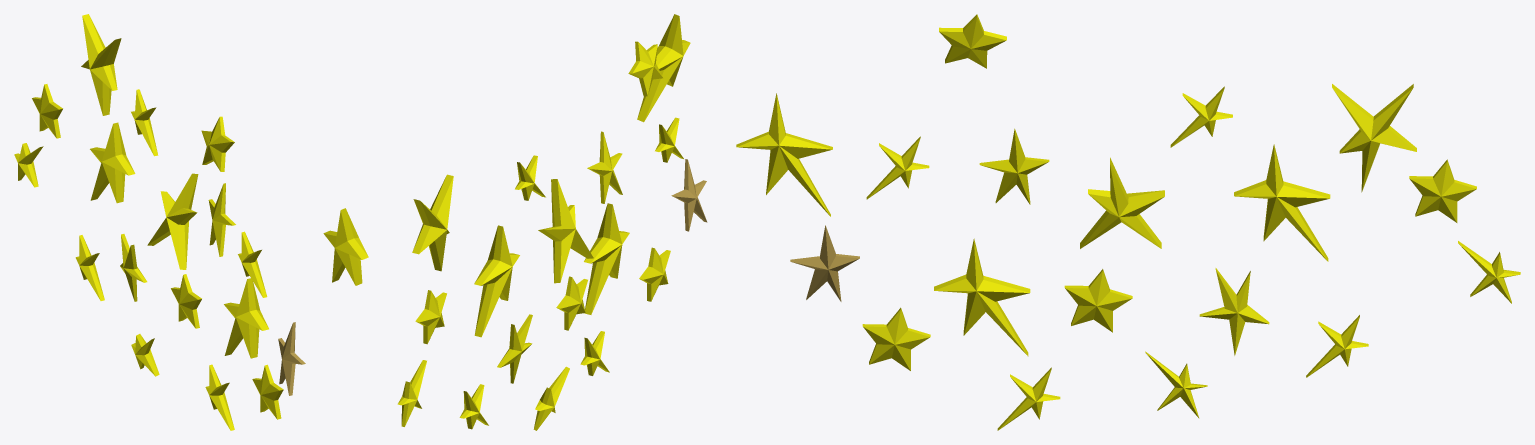
Rendered from zvezde.glb.
The picture shows the model from 3 angles, left to right: view 1: azimuth 30°, elevation 25°; view 2: azimuth 150°, elevation 25°; view 3: azimuth 270°, elevation 25°; orthographic projection. The views are drawn at different scales.
Visible parts, largest first — view 1: Cylinder.002, Cylinder.014, Cylinder.003, Cylinder.006, Cylinder.013, Cylinder.005, Cylinder.008, Cylinder.001, Cylinder.010, Cylinder, Cylinder.011, Cylinder.012 (+6 smaller); view 2: Cylinder.003, Cylinder.006, Cylinder.002, Cylinder.014, Cylinder.013, Cylinder.005, Cylinder.001, Cylinder.008, Cylinder.016, Cylinder.010, Cylinder, Cylinder.011 (+6 smaller); view 3: Cylinder.003, Cylinder.006, Cylinder.013, Cylinder.014, Cylinder.002, Cylinder, Cylinder.010, Cylinder.011, Cylinder.005, Cylinder.016, Cylinder.001, Cylinder.008 (+6 smaller).
Part boxes in pixels (x1=…): Cylinder.002: x1=147, y1=173, x2=198, y2=269; Cylinder.014: x1=81, y1=14, x2=121, y2=115; Cylinder.003: x1=90, y1=122, x2=135, y2=203; Cylinder.006: x1=224, y1=278, x2=268, y2=358; Cylinder.013: x1=323, y1=208, x2=368, y2=285; Cylinder.005: x1=201, y1=116, x2=234, y2=171; Cylinder.008: x1=278, y1=322, x2=305, y2=395; Cylinder.001: x1=208, y1=183, x2=235, y2=256; Cylinder.010: x1=171, y1=274, x2=201, y2=328; Cylinder: x1=32, y1=84, x2=62, y2=138; Cylinder.011: x1=252, y1=364, x2=283, y2=419; Cylinder.012: x1=238, y1=231, x2=267, y2=297; Cylinder.003: x1=474, y1=225, x2=519, y2=337; Cylinder.006: x1=584, y1=203, x2=629, y2=314; Cylinder.002: x1=538, y1=179, x2=593, y2=283; Cylinder.014: x1=412, y1=174, x2=453, y2=271; Cylinder.013: x1=637, y1=14, x2=690, y2=122; Cylinder.005: x1=628, y1=41, x2=662, y2=96; Cylinder.001: x1=587, y1=131, x2=622, y2=203; Cylinder.008: x1=671, y1=159, x2=707, y2=231; Cylinder.016: x1=497, y1=314, x2=532, y2=383; Cylinder.010: x1=556, y1=276, x2=587, y2=330; Cylinder: x1=415, y1=290, x2=446, y2=344; Cylinder.011: x1=639, y1=247, x2=670, y2=301; Cylinder.003: x1=1234, y1=144, x2=1330, y2=261; Cylinder.006: x1=934, y1=238, x2=1030, y2=356; Cylinder.013: x1=736, y1=93, x2=832, y2=216; Cylinder.014: x1=1332, y1=84, x2=1416, y2=192; Cylinder.002: x1=1080, y1=157, x2=1164, y2=248; Cylinder: x1=1409, y1=159, x2=1476, y2=222; Cylinder.010: x1=1064, y1=269, x2=1132, y2=332; Cylinder.011: x1=862, y1=307, x2=930, y2=370; Cylinder.005: x1=939, y1=14, x2=1006, y2=68; Cylinder.016: x1=1199, y1=268, x2=1269, y2=355; Cylinder.001: x1=979, y1=128, x2=1049, y2=204; Cylinder.008: x1=790, y1=225, x2=859, y2=301.
Bounding box in the file's own units: 0.6262 × 2.65 × 4.67.
